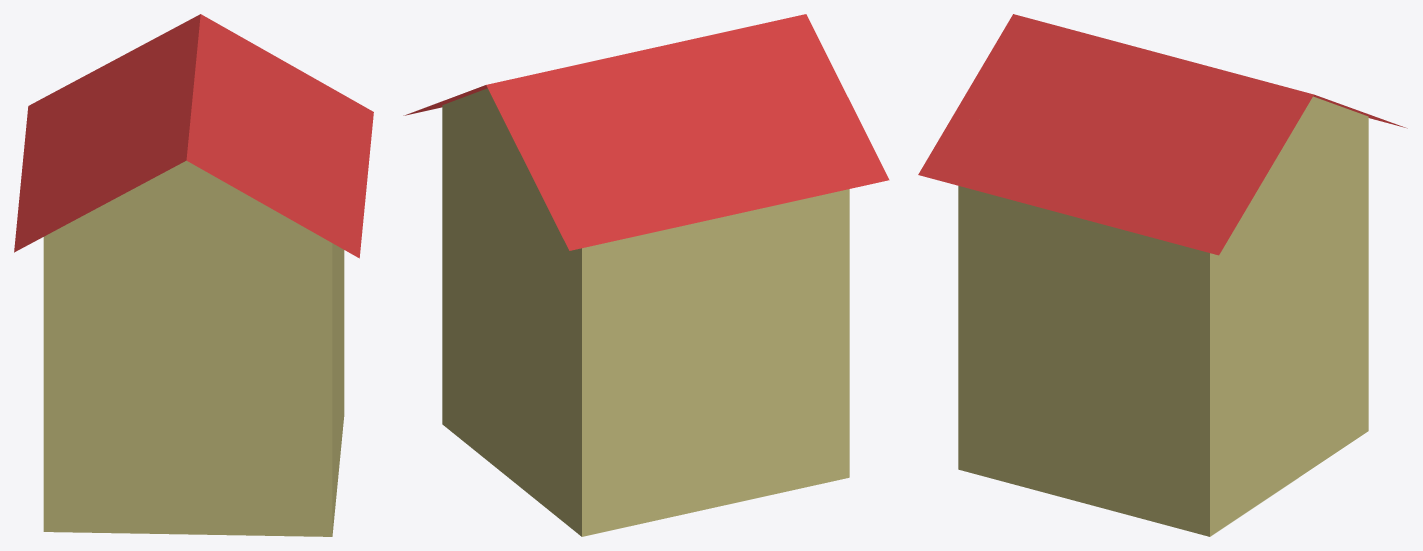
3 views of the same model, side by side, from view 1: azimuth 30°, elevation 25°; view 2: azimuth 150°, elevation 25°; view 3: azimuth 270°, elevation 25° (orthographic). The views are drawn at different scales.
Bounding box in the file's own units: 16.83 × 16.84 × 14.99.
